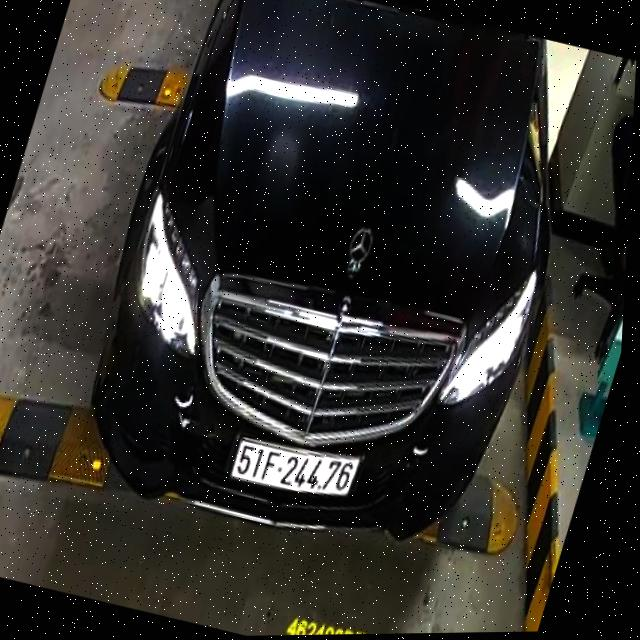car: (43, 0, 617, 584)
plate: (219, 424, 367, 509)
